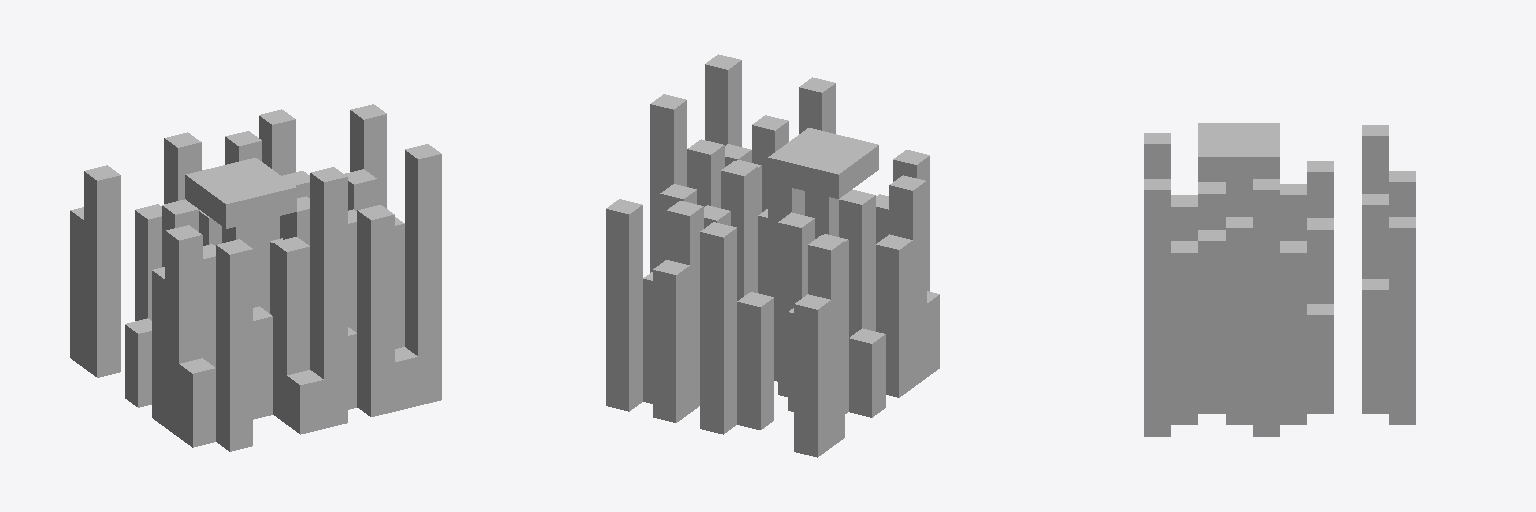
File: Grass3.obj
3 views of the same model, side by side, from view 1: azimuth 30°, elevation 25°; view 2: azimuth 150°, elevation 25°; view 3: azimuth 270°, elevation 25° (orthographic).
Visible parts, largest first — view 1: object 1; view 2: object 1; view 3: object 1.
Part boxes in pixels (x1,y1,x2,y2): object 1: (70,104,441,451); object 1: (606,54,939,457); object 1: (1144,123,1415,436).
Bounding box in the file's own units: 1 × 1 × 1.